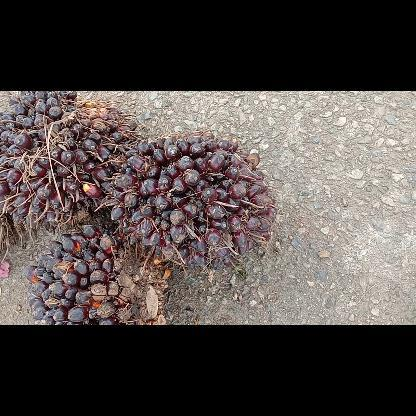TBS mentah: (100, 133, 276, 267), (0, 91, 135, 228), (26, 224, 166, 324)
